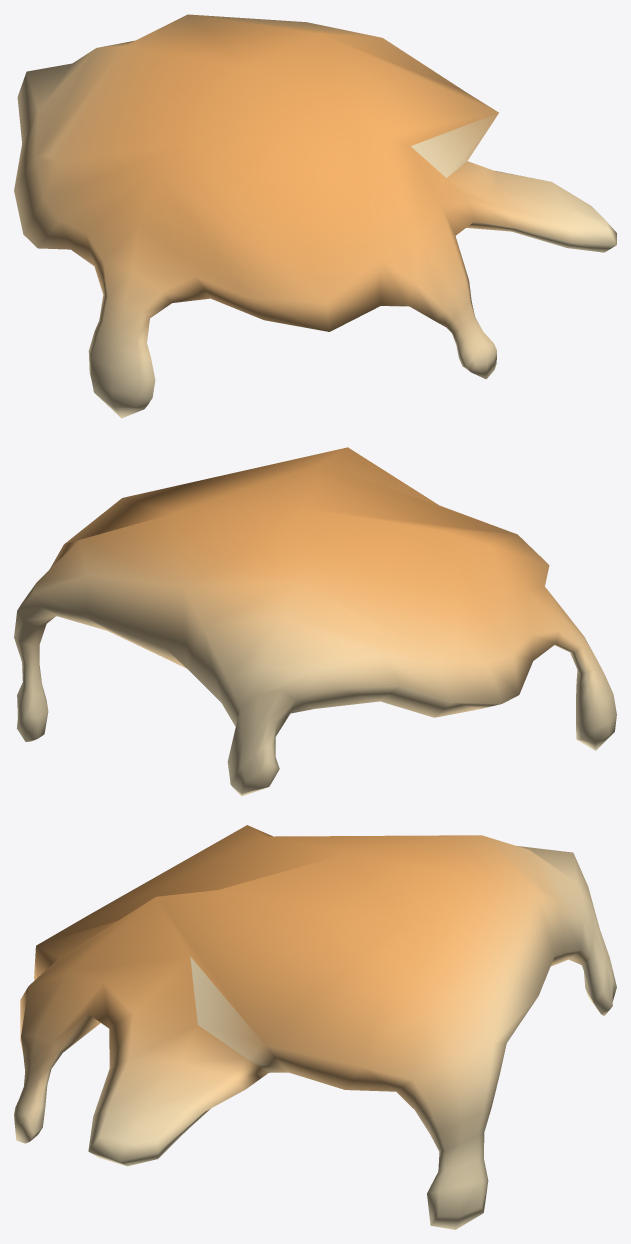
File: Sauce.fbx
The picture shows the model from 3 angles, top to bottom: view 1: azimuth 30°, elevation 25°; view 2: azimuth 150°, elevation 25°; view 3: azimuth 270°, elevation 25°; orthographic projection. The views are drawn at different scales.
Visible parts, largest first — view 1: Sauce; view 2: Sauce; view 3: Sauce.
Boxes of the visible parts, x1,y1,x2,y2 form: Sauce: [14, 14, 616, 418]; Sauce: [14, 447, 616, 796]; Sauce: [14, 825, 616, 1229].
Size of the model in its own units: 70.58 by 33.48 by 69.47.
